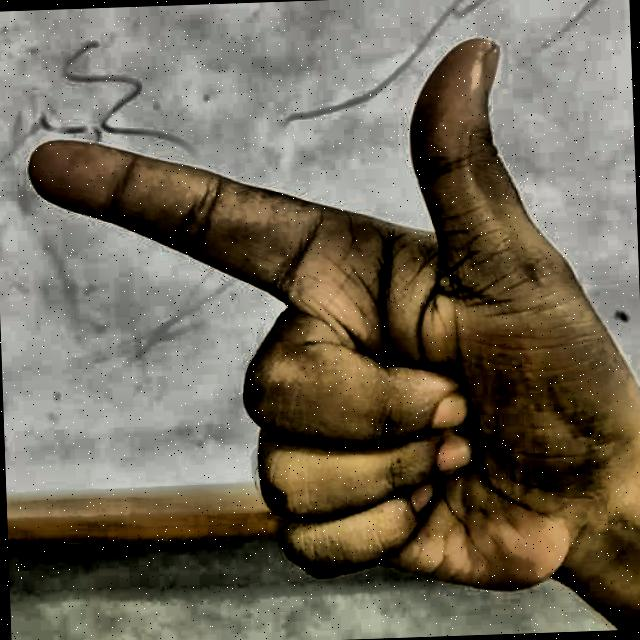Tha: (16, 6, 636, 632)
